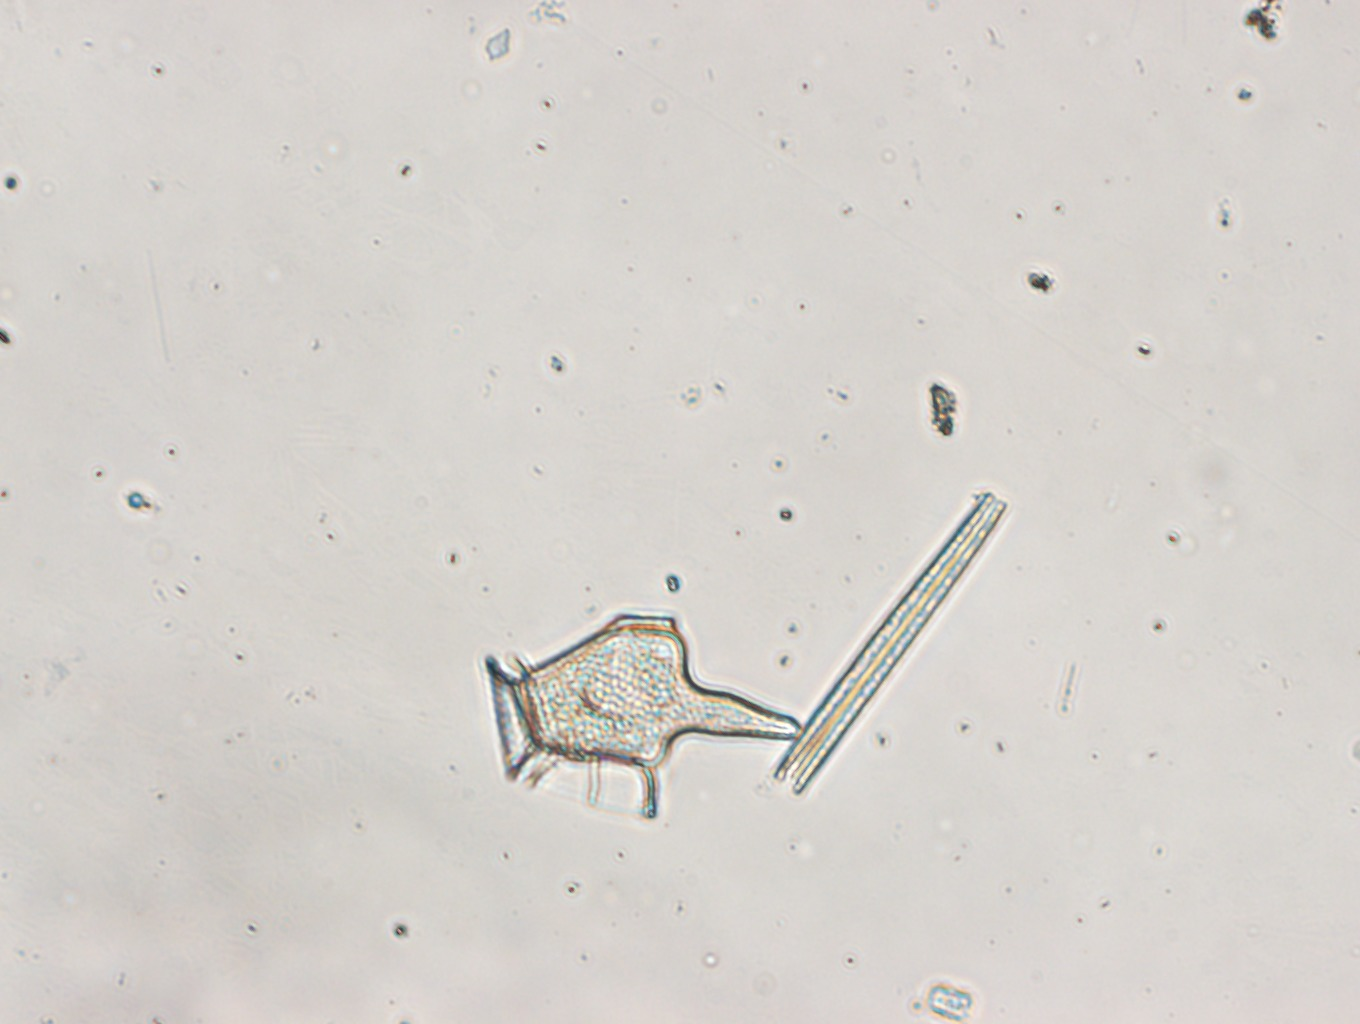dinophysis caudata: (469, 609, 807, 820)
